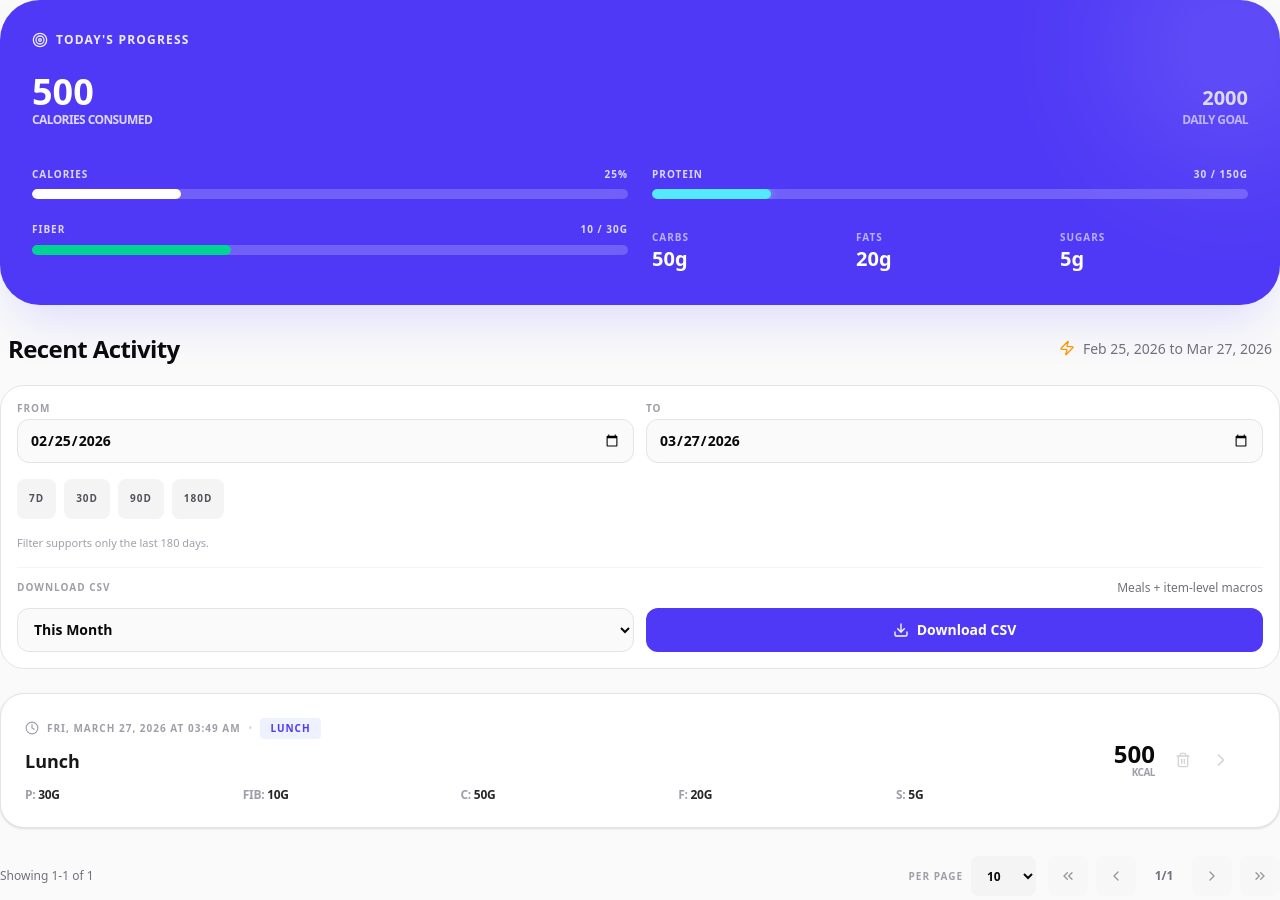
it: DiaryView › fetches meal details on click
Click the heading "Lunch" at (52, 761), box [25,749,80,773]
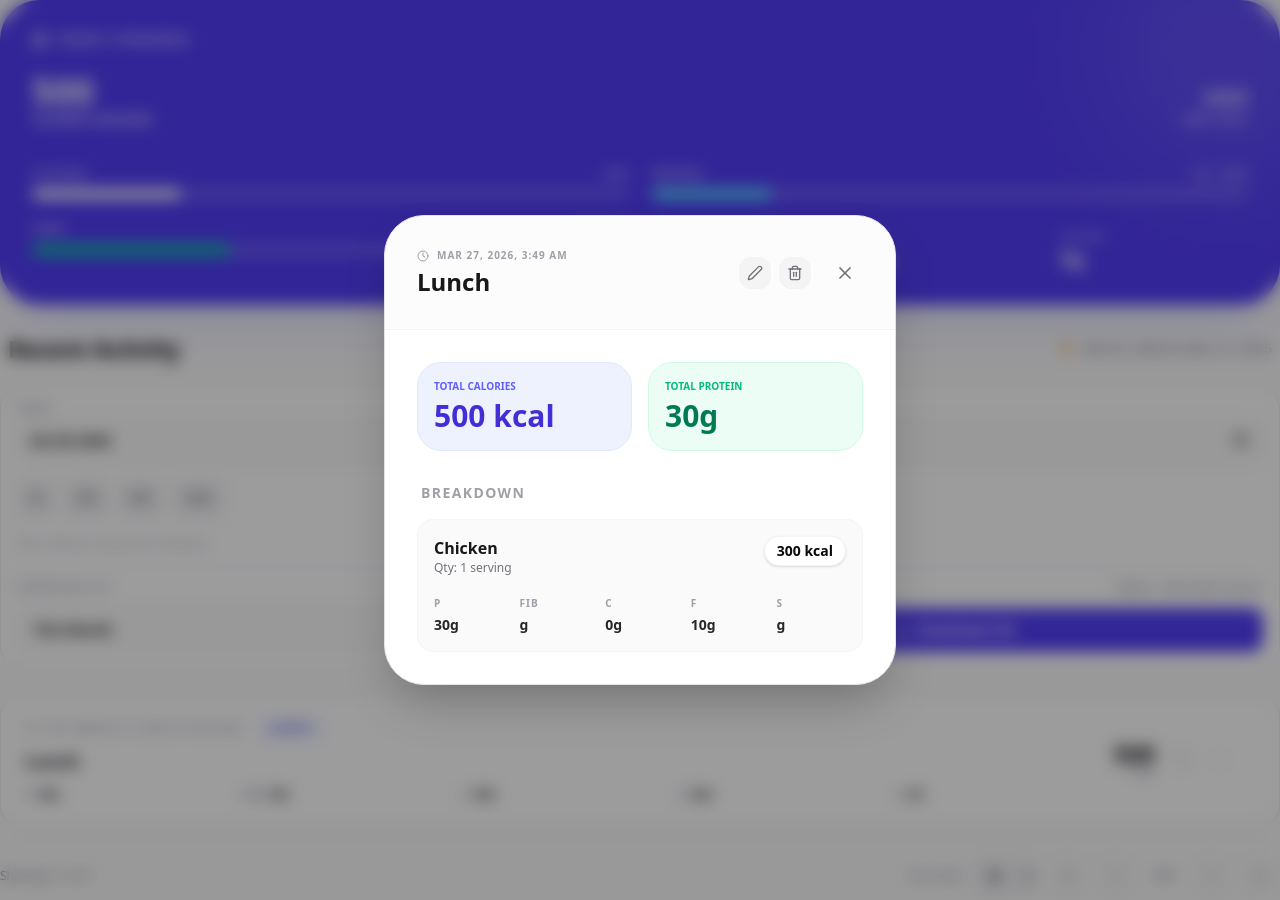
Result: the text "Chicken" is shown at [434,537,498,559]
